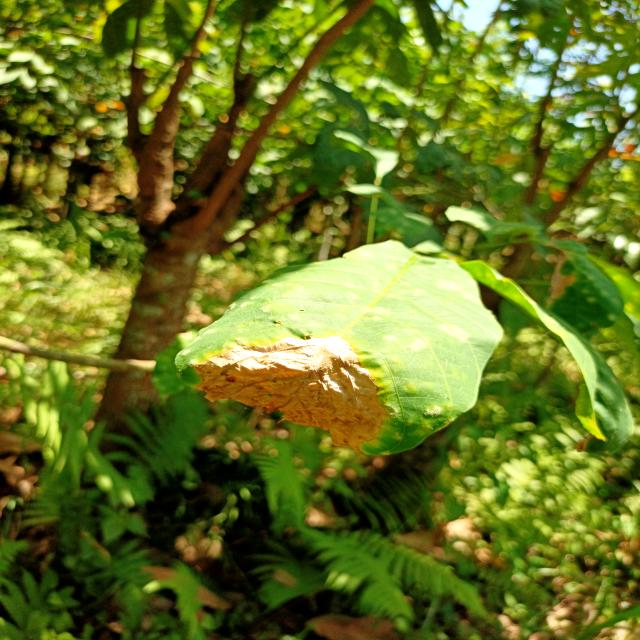Leaf-Blight: (193, 334, 388, 453)
